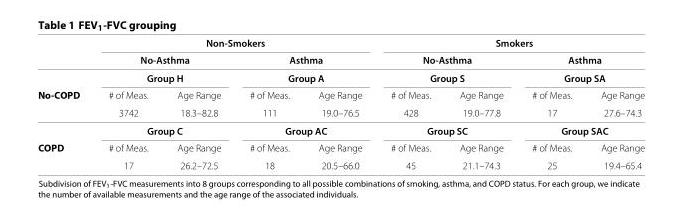table: (37, 36, 644, 170)
table column: (303, 36, 376, 170), (444, 36, 517, 170), (162, 36, 234, 170), (93, 36, 162, 170), (234, 36, 303, 170), (376, 36, 444, 170), (517, 36, 585, 170), (585, 36, 644, 170), (37, 36, 93, 170)
table column header: (37, 36, 644, 103)
table row: (37, 68, 644, 86), (37, 103, 644, 121), (37, 138, 644, 156), (37, 51, 644, 68), (37, 86, 644, 103), (37, 121, 644, 138), (37, 36, 644, 51), (37, 156, 644, 170)
table spanning cell: (234, 51, 376, 86), (93, 51, 234, 86), (376, 51, 517, 86), (517, 51, 644, 86), (93, 36, 376, 51), (376, 36, 644, 51), (37, 36, 93, 103), (234, 121, 376, 138), (93, 121, 234, 138), (376, 121, 517, 138), (517, 121, 644, 138), (37, 138, 93, 170)
